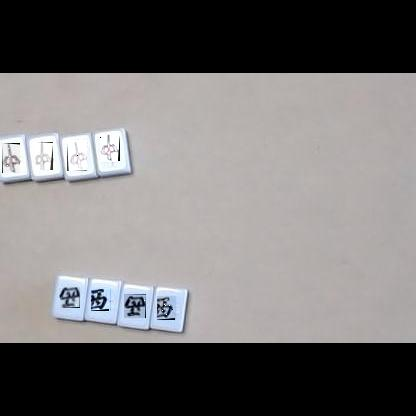3z: (124, 294, 146, 318), (158, 296, 180, 320), (92, 289, 114, 311), (60, 287, 80, 308)
7z: (67, 140, 87, 171), (100, 136, 120, 166), (2, 143, 20, 173), (35, 142, 53, 170)
